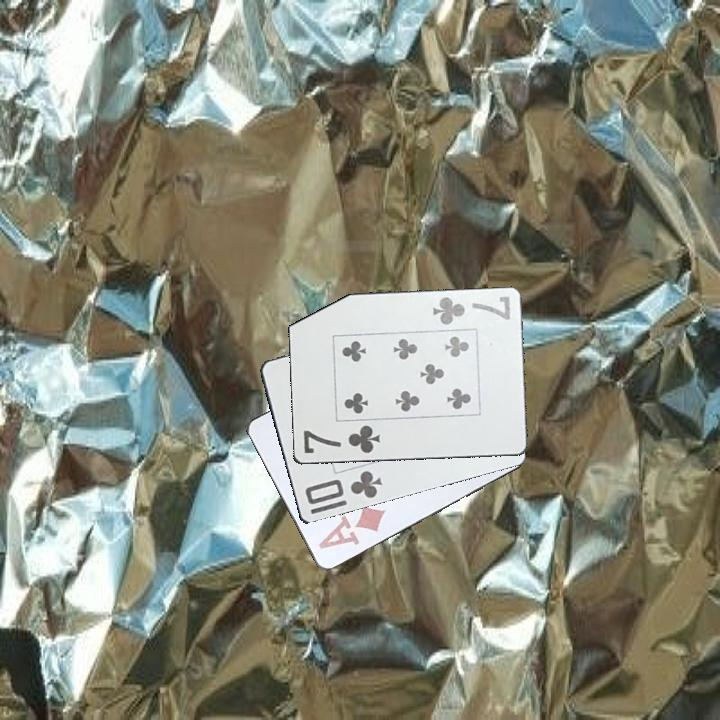7c: (299, 422, 383, 457), (429, 293, 513, 328)
Ad: (314, 503, 388, 552)
Tc: (301, 467, 385, 508)
